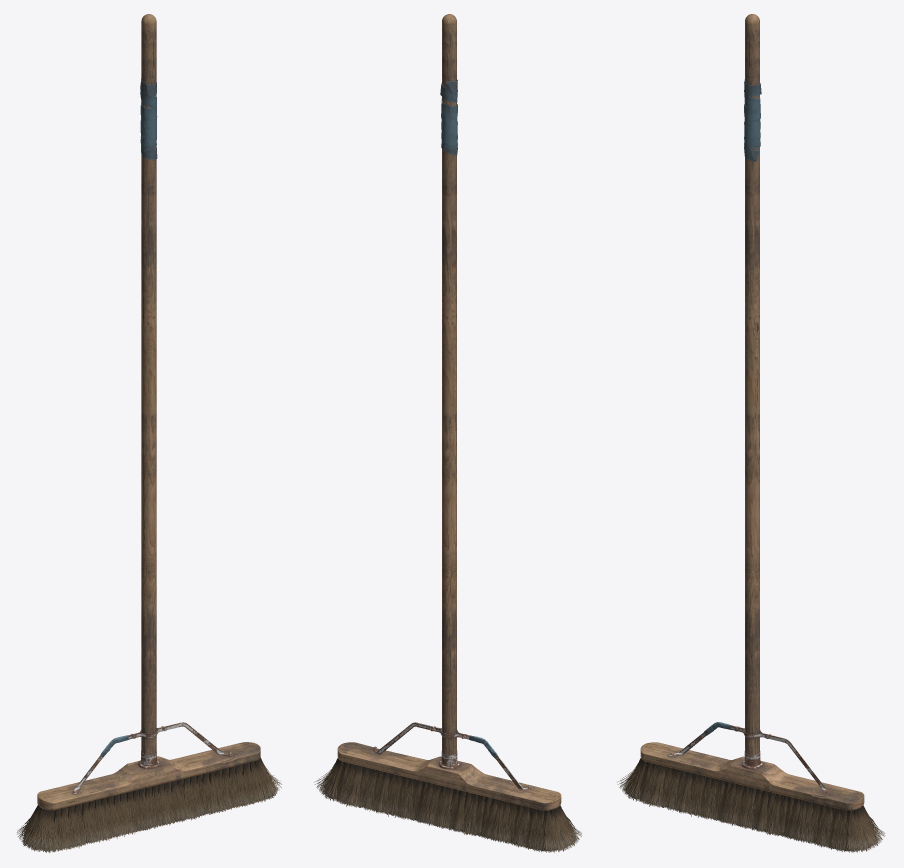
Rendered from wooden_broom_1k.fbx.
3 views of the same model, side by side, from view 1: azimuth 30°, elevation 25°; view 2: azimuth 150°, elevation 25°; view 3: azimuth 330°, elevation 25° (orthographic).
Visible parts, largest first — view 1: wooden_broom_handle, wooden_broom, wooden_broom_bristles; view 2: wooden_broom_handle, wooden_broom, wooden_broom_bristles; view 3: wooden_broom_handle, wooden_broom, wooden_broom_bristles.
Boxes of the visible parts, left/top/right/bottom form: wooden_broom_handle: left=140, top=14, right=157, bottom=765; wooden_broom: left=23, top=722, right=274, bottom=850; wooden_broom_bristles: left=17, top=757, right=281, bottom=852; wooden_broom_handle: left=440, top=14, right=457, bottom=766; wooden_broom: left=326, top=722, right=576, bottom=850; wooden_broom_bristles: left=314, top=758, right=581, bottom=852; wooden_broom_handle: left=744, top=14, right=761, bottom=766; wooden_broom: left=625, top=722, right=877, bottom=850; wooden_broom_bristles: left=617, top=758, right=884, bottom=852.
Size of the model in its own units: 49.02 by 145 by 11.25.
